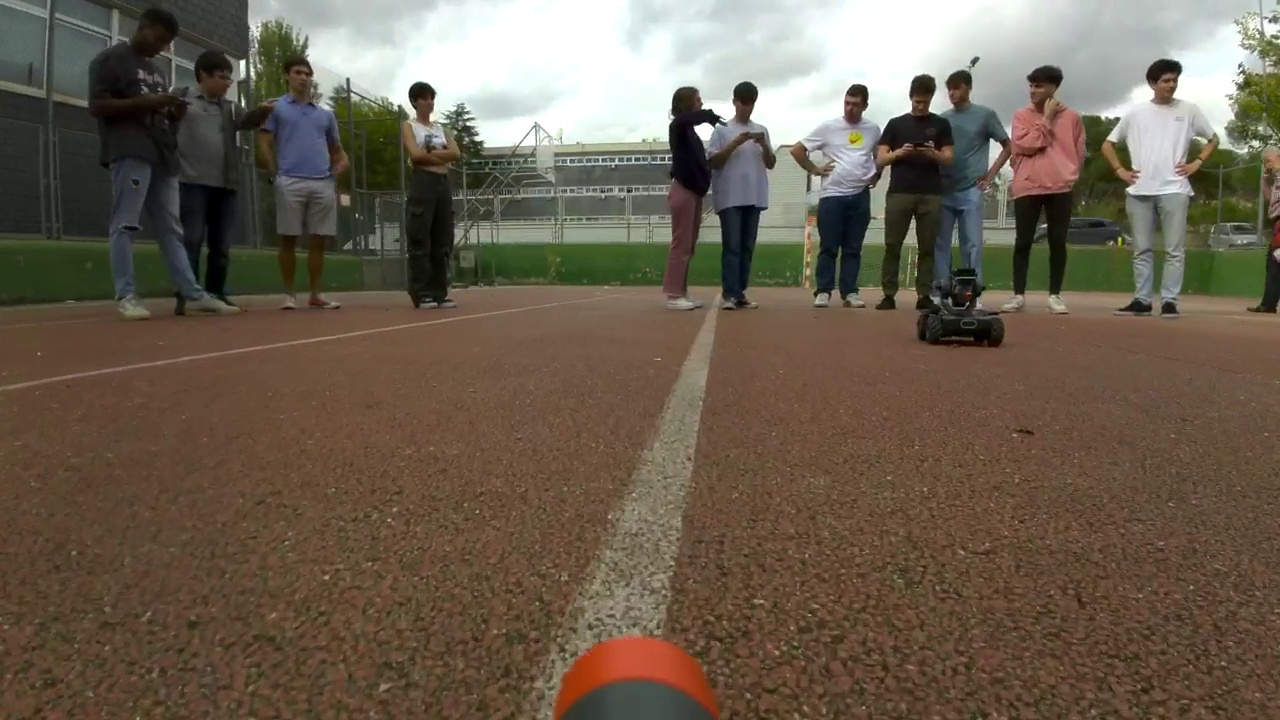robot: (918, 270, 1004, 347)
